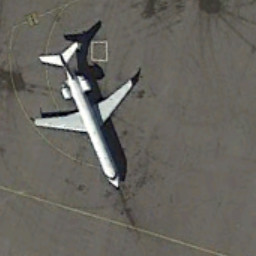Airplane: (26, 35, 146, 195)
